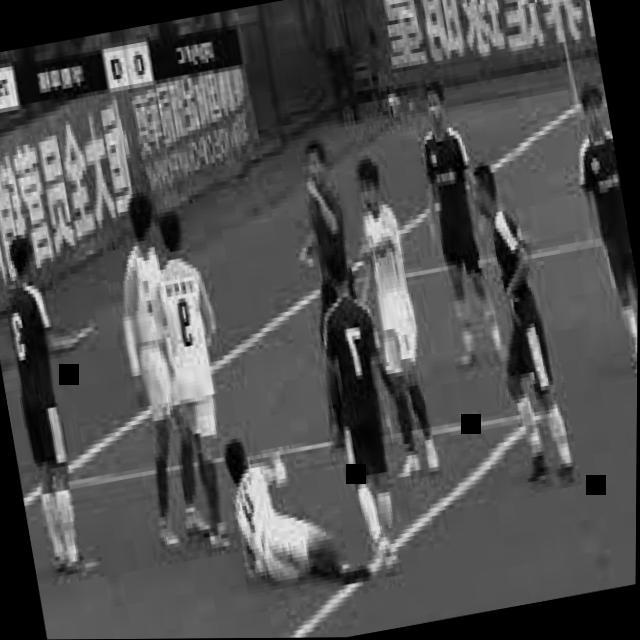Fall-Detected: (206, 402, 382, 609)
